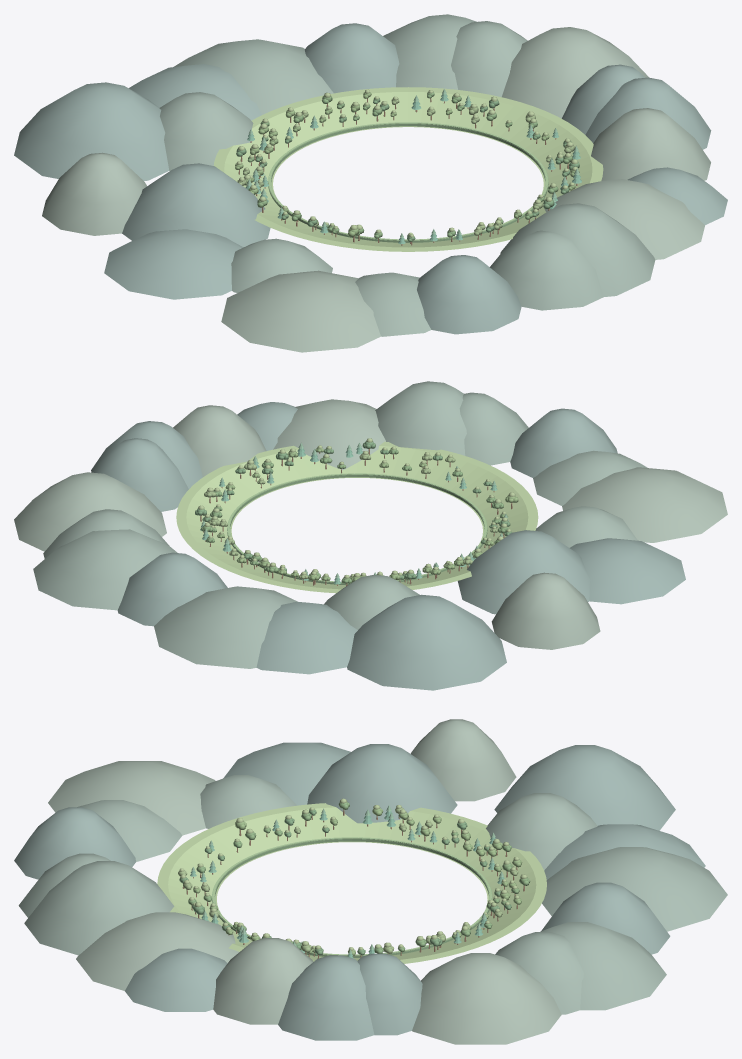
Rendered from env_hq.glb.
3 views of the same model, one above another, from view 1: azimuth 30°, elevation 25°; view 2: azimuth 150°, elevation 25°; view 3: azimuth 270°, elevation 25° (orthographic). The views are drawn at different scales.
Parts seen in each view (by area): view 1: Env_far, Env_terrain, Env_props; view 2: Env_far, Env_terrain, Env_props; view 3: Env_far, Env_terrain, Env_props.
Boxes of the visible parts, x1,y1,x2,y2 form: Env_far: [14, 14, 727, 352]; Env_terrain: [213, 87, 603, 251]; Env_props: [235, 89, 581, 245]; Env_far: [14, 381, 727, 690]; Env_terrain: [176, 441, 538, 593]; Env_props: [195, 438, 518, 586]; Env_far: [14, 719, 727, 1044]; Env_terrain: [157, 803, 546, 963]; Env_props: [178, 798, 530, 958].
Size of the model in its own units: 260 by 23.97 by 264.
